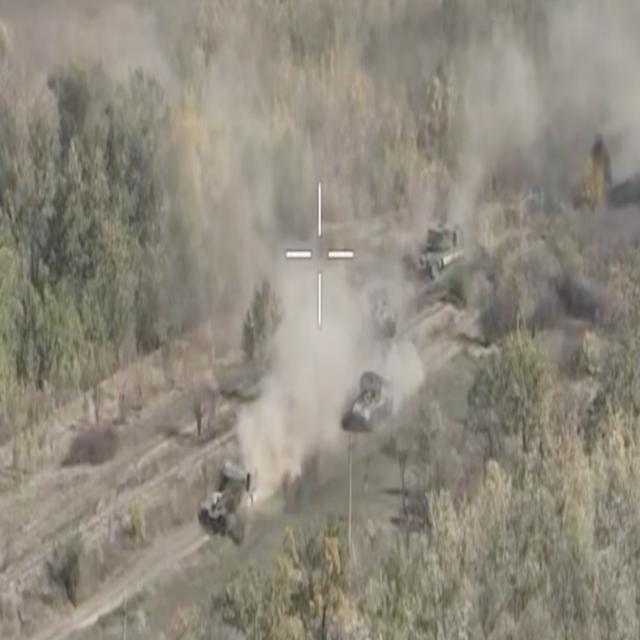vehicle: (200, 460, 255, 532), (349, 366, 392, 430), (418, 224, 462, 280)
